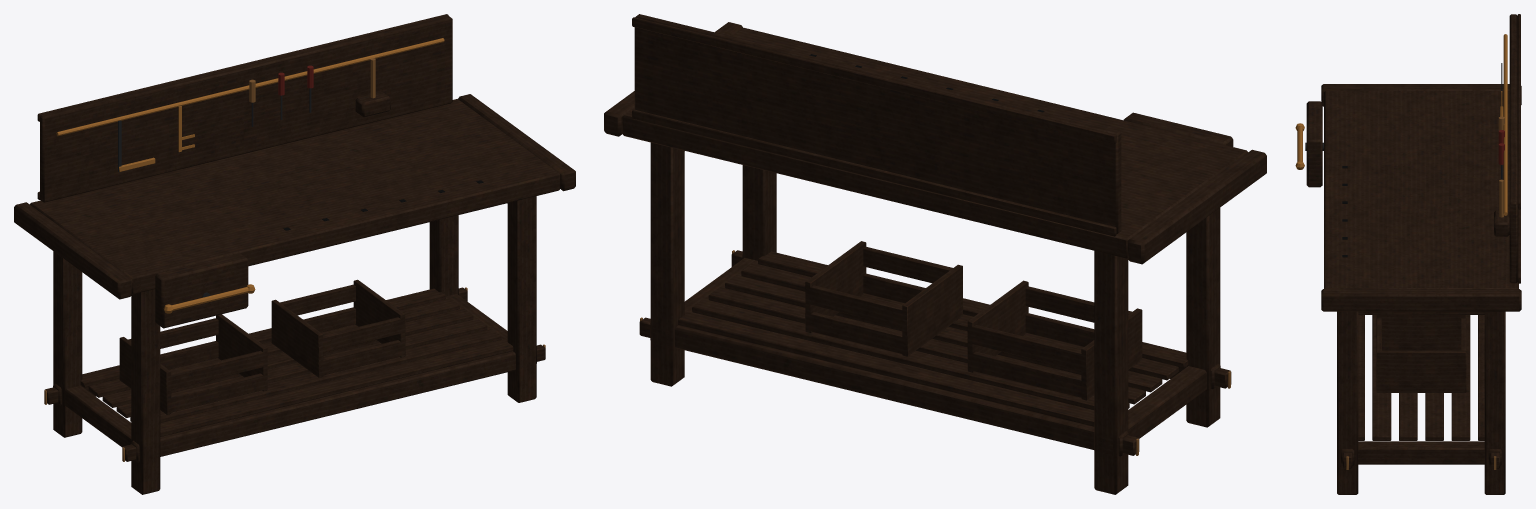
Rendered from maker-workbench.lod0.glb.
3 renders of one model, left to right at view 1: azimuth 30°, elevation 25°; view 2: azimuth 150°, elevation 25°; view 3: azimuth 270°, elevation 25°, orthographic. The views are drawn at different scales.
Parts seen in each view (by area): view 1: maker_workbench_Timber • oiled walnut, maker_workbench_Trim • places palette; view 2: maker_workbench_Timber • oiled walnut; view 3: maker_workbench_Timber • oiled walnut, maker_workbench_Trim • places palette.
Boxes of the visible parts, x1,y1,x2,y2 form: maker_workbench_Timber • oiled walnut: [14, 14, 575, 494]; maker_workbench_Trim • places palette: [44, 38, 545, 461]; maker_workbench_Timber • oiled walnut: [604, 14, 1266, 494]; maker_workbench_Timber • oiled walnut: [1306, 14, 1521, 494]; maker_workbench_Trim • places palette: [1295, 34, 1507, 469].
Bounding box in the file's own units: 1.9 × 1.24 × 0.858.
2 materials, 2 textured.
